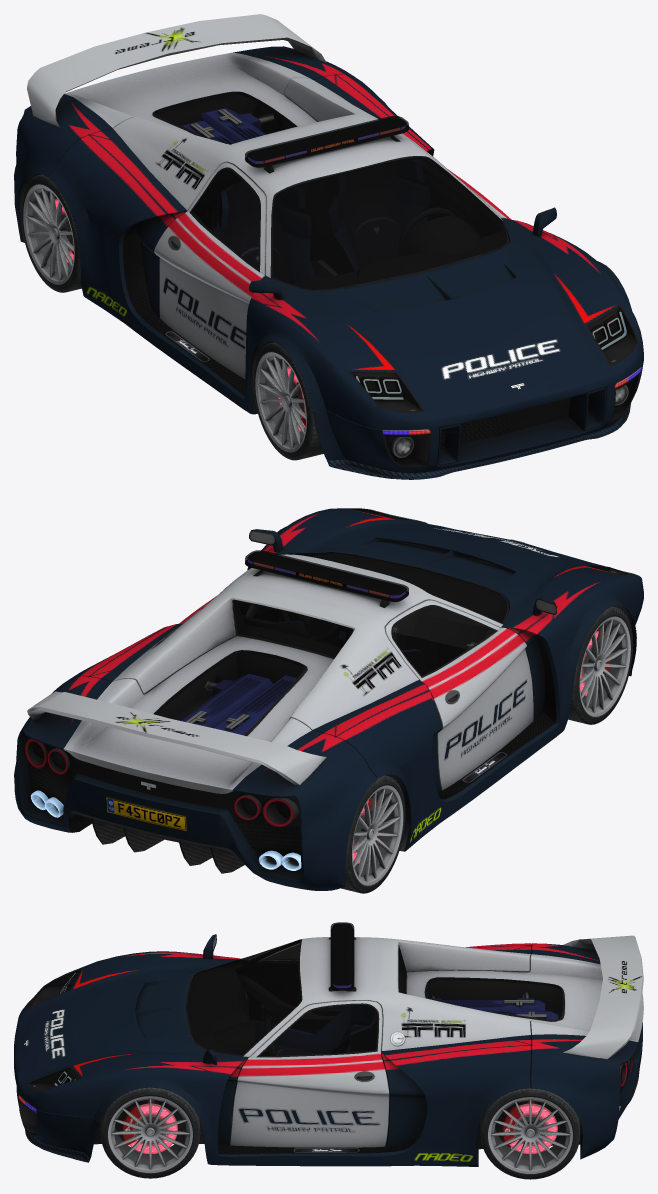
3 views of the same model, one above another, from view 1: azimuth 30°, elevation 25°; view 2: azimuth 150°, elevation 25°; view 3: azimuth 270°, elevation 25° (orthographic). The views are drawn at different scales.
Parts seen in each view (by area): view 1: sBody, dBody, gBody, sFRWheel, sRRWheel, dExhaust, wFRWheel, wRRWheel; view 2: sBody, dBody, gBody, dExhaust, sRRWheel, sFRWheel, wFRWheel, wRRWheel; view 3: sBody, dBody, gBody, sRLWheel, sFLWheel, wRLWheel, wFLWheel, dExhaust, dRLWheel, dFLWheel.
Part boxes in pixels (x1,y1,x2,y2): sBody: [14, 14, 643, 479]; dBody: [19, 91, 641, 468]; gBody: [154, 91, 638, 466]; sFRWheel: [255, 352, 306, 452]; sRRWheel: [23, 184, 74, 284]; dExhaust: [181, 108, 274, 144]; wFRWheel: [253, 342, 323, 460]; wRRWheel: [21, 174, 81, 292]; sBody: [14, 508, 643, 890]; dBody: [25, 508, 634, 873]; gBody: [24, 508, 632, 827]; dExhaust: [30, 674, 301, 870]; sRRWheel: [351, 785, 403, 885]; sFRWheel: [579, 616, 630, 716]; wFRWheel: [568, 606, 633, 724]; wRRWheel: [341, 775, 405, 893]; sBody: [14, 934, 643, 1166]; dBody: [18, 923, 639, 1164]; gBody: [19, 922, 633, 1133]; sRLWheel: [488, 1097, 572, 1173]; sFLWheel: [108, 1096, 192, 1173]; wRLWheel: [480, 1087, 580, 1179]; wFLWheel: [100, 1087, 200, 1178]; dExhaust: [429, 991, 620, 1110]; dRLWheel: [509, 1103, 557, 1153]; dFLWheel: [129, 1103, 177, 1153].
Bounding box in the file's own units: 2.26 × 1.27 × 4.5.
4 materials, 3 textured.
